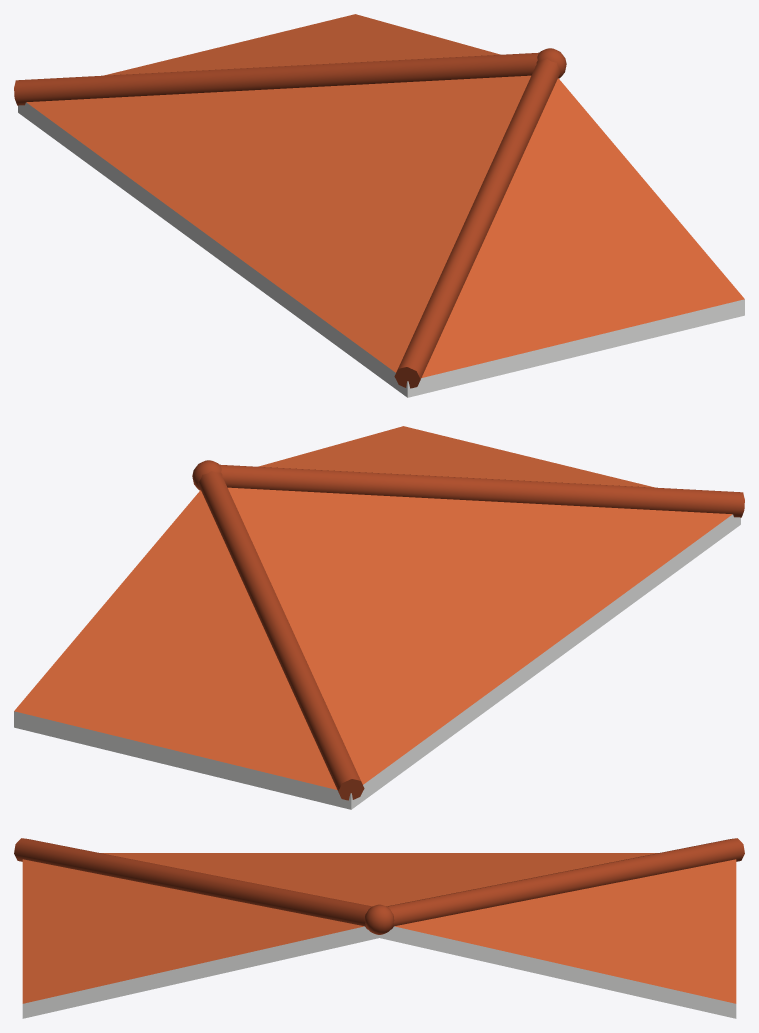
Rendered from telhado_quatro_aguas_ponta_v4_i25.glb.
3 views of the same model, one above another, from view 1: azimuth 30°, elevation 25°; view 2: azimuth 150°, elevation 25°; view 3: azimuth 270°, elevation 25° (orthographic). The views are drawn at different scales.
Parts seen in each view (by area): view 1: telhado_quatro_aguas_ponta_v4_i25; view 2: telhado_quatro_aguas_ponta_v4_i25; view 3: telhado_quatro_aguas_ponta_v4_i25.
Boxes of the visible parts, box(x1,y1,x2,y2) form: telhado_quatro_aguas_ponta_v4_i25: box(14, 14, 744, 397); telhado_quatro_aguas_ponta_v4_i25: box(14, 426, 744, 809); telhado_quatro_aguas_ponta_v4_i25: box(14, 838, 744, 1018).
Size of the model in its own units: 2.13 by 0.6978 by 4.1.
